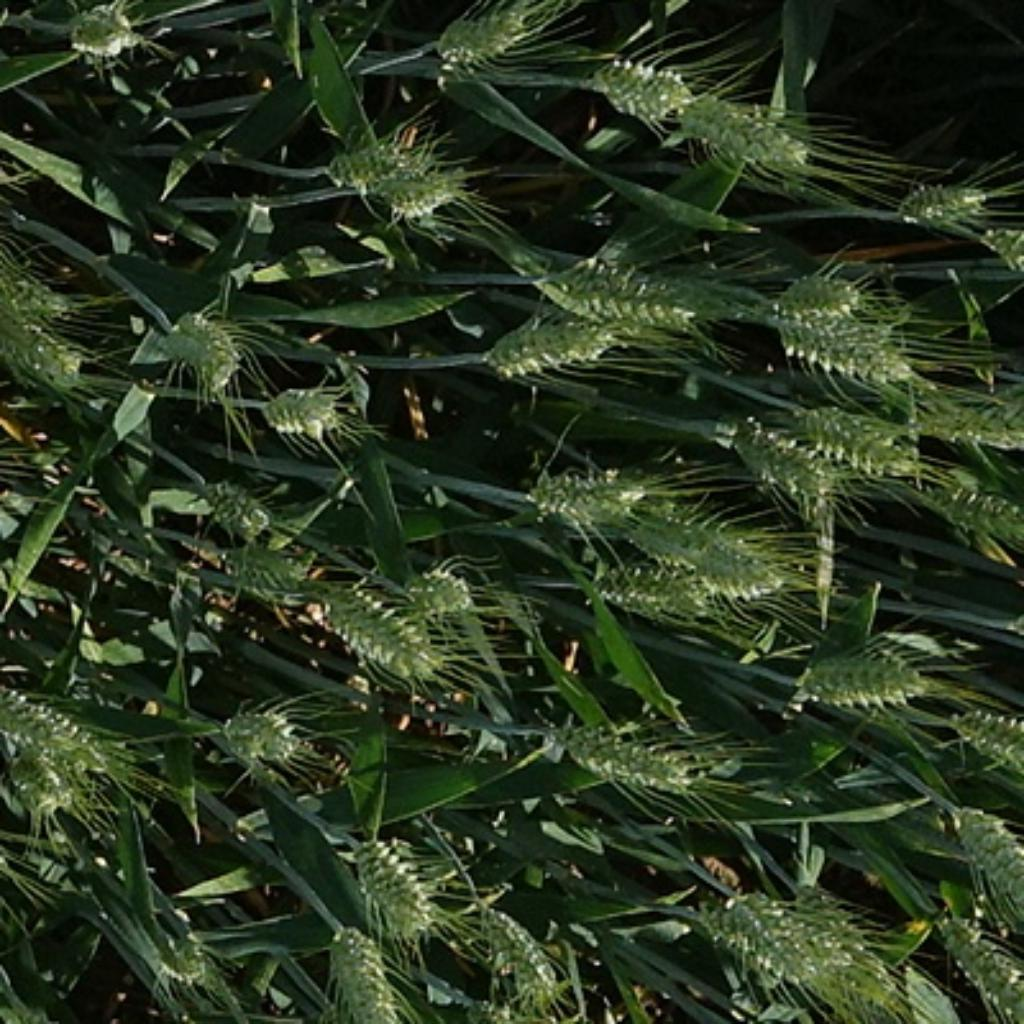0-0: (626, 493, 800, 614), (671, 83, 832, 193), (545, 253, 737, 345), (795, 880, 909, 1022), (309, 573, 437, 680), (721, 412, 851, 516), (547, 716, 709, 796), (2, 685, 124, 785), (519, 455, 660, 535), (788, 634, 934, 711), (709, 901, 826, 997), (344, 836, 446, 946), (314, 127, 458, 204), (734, 879, 856, 968), (587, 49, 707, 138), (430, 0, 572, 75), (583, 555, 737, 622), (465, 314, 628, 377), (752, 263, 912, 327), (310, 922, 410, 1024), (480, 911, 575, 1016), (808, 408, 936, 483), (944, 794, 1023, 915), (376, 153, 496, 232), (770, 325, 921, 386), (217, 694, 324, 779), (157, 312, 260, 399), (910, 389, 1023, 462), (0, 742, 102, 822), (0, 326, 94, 407), (885, 174, 1000, 238), (932, 473, 1024, 550), (255, 377, 355, 446), (0, 248, 77, 334), (57, 0, 157, 66), (217, 539, 311, 603), (394, 558, 478, 629), (942, 705, 1024, 776), (195, 482, 282, 548), (143, 933, 234, 989), (0, 801, 5, 880)
